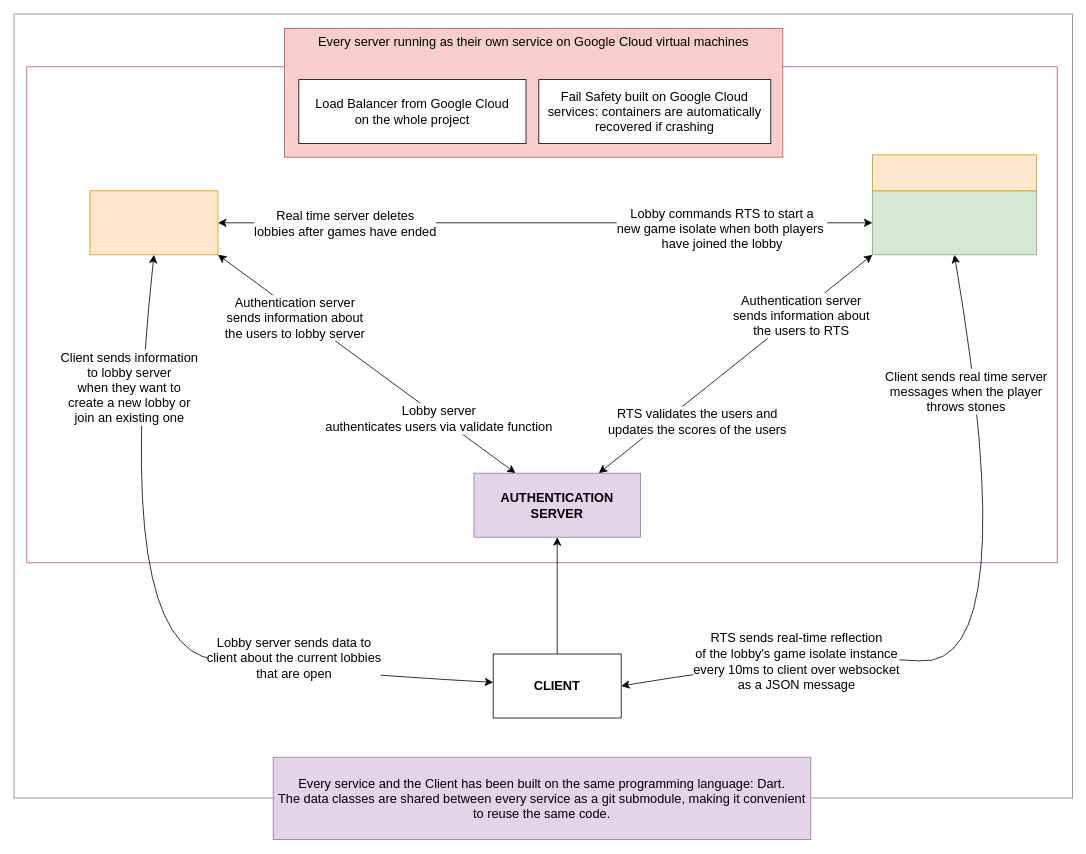
The diagram is 1086 pixels wide and 854 high, and some of its shapes have lost their labels. Each missing label, with the box of its shape:
LOBBY SERVER: (89, 190, 218, 255)
MASTER DECISION MAKER: (872, 154, 1036, 191)
REAL TIME SERVER: (872, 190, 1036, 255)
